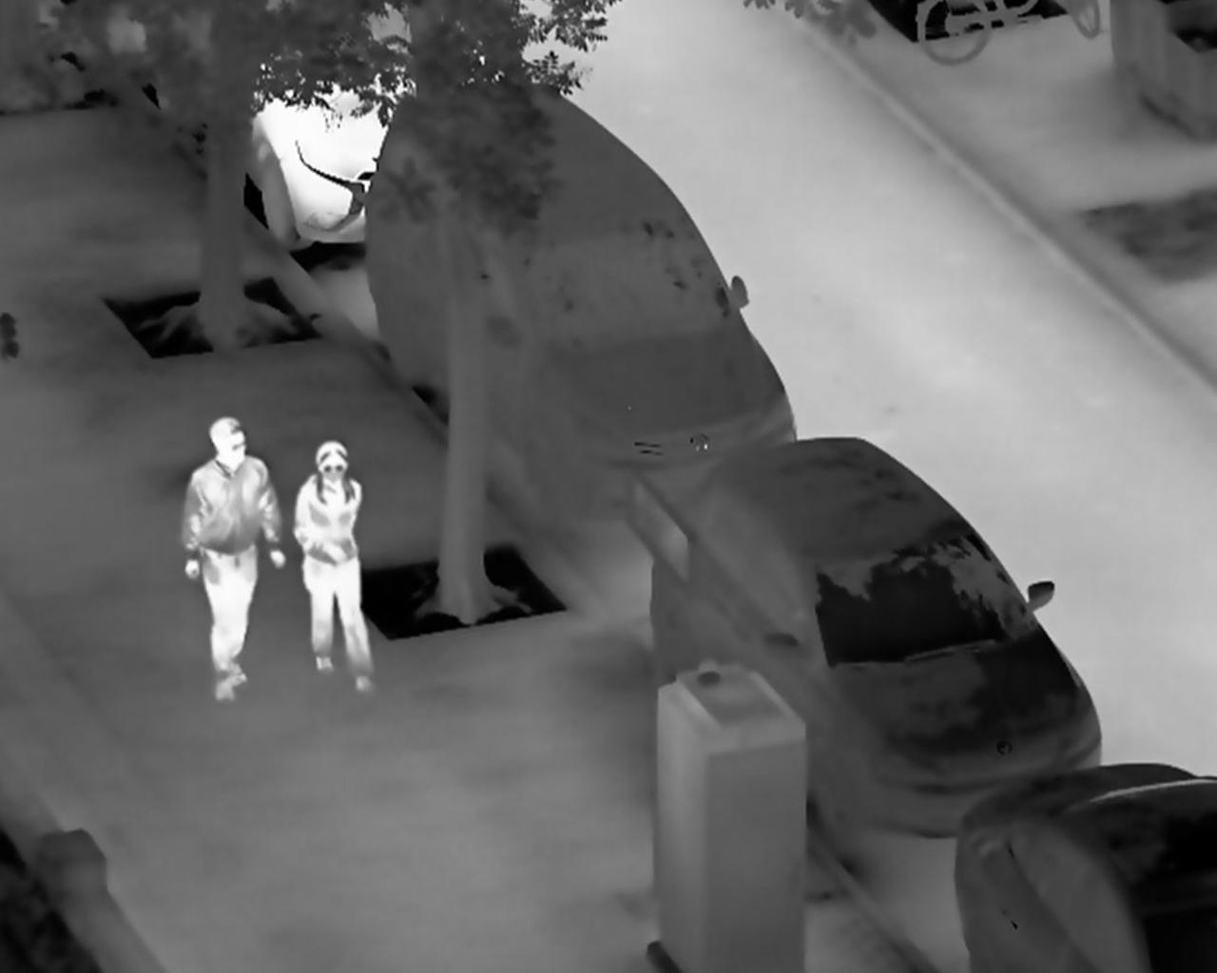person: (178, 412, 292, 705), (294, 435, 378, 698)
